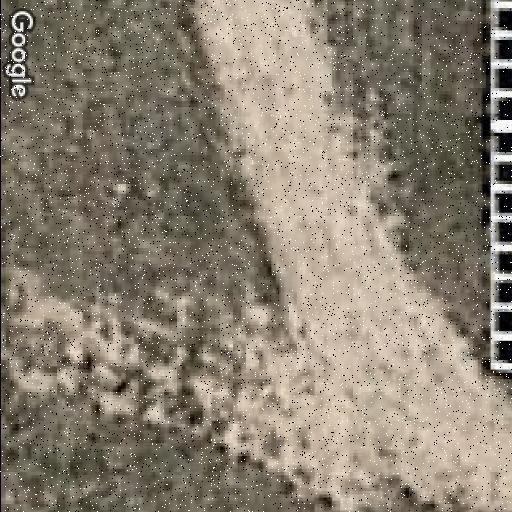solar-panel: (493, 0, 512, 370)
